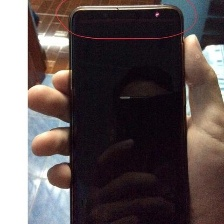phone: (62, 1, 201, 224)
